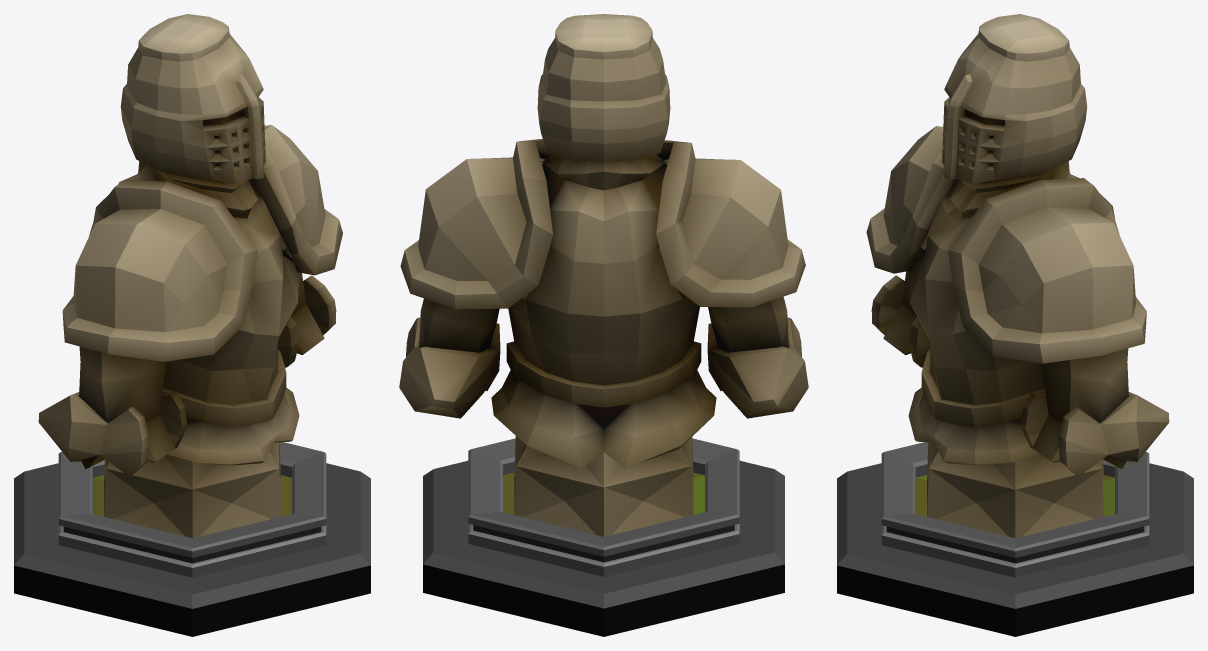
Rendered from armyTile_Medieval.fbx.
The picture shows the model from 3 angles, left to right: view 1: azimuth 30°, elevation 25°; view 2: azimuth 150°, elevation 25°; view 3: azimuth 270°, elevation 25°; orthographic projection.
Parts seen in each view (by area): view 1: armyTile_Medieval; view 2: armyTile_Medieval; view 3: armyTile_Medieval.
Part boxes in pixels (x1,y1,x2,y2): armyTile_Medieval: [14, 14, 370, 636]; armyTile_Medieval: [399, 14, 808, 636]; armyTile_Medieval: [837, 14, 1193, 636].
Bounding box in the file's own units: 2 × 2.77 × 1.73.
